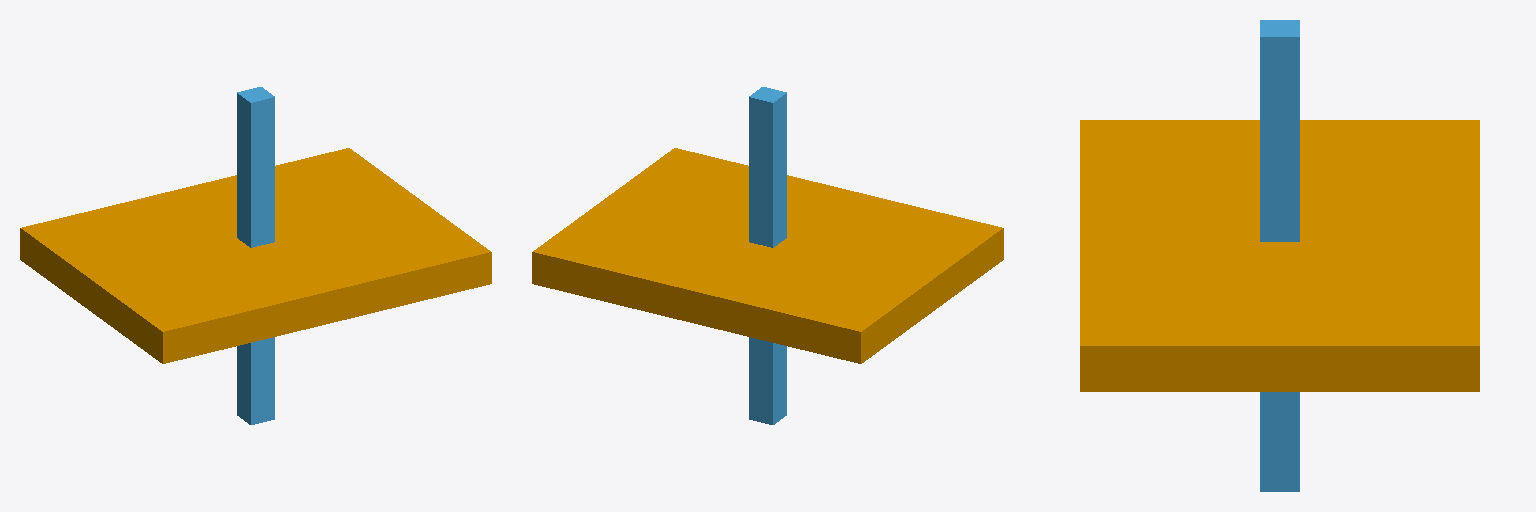
robot.urdf — plane:
<?xml version="1.0" ?>
<robot name="plane">

  <link name="link_plane">
    <contact>
        <lateral_friction value="1"/>
    </contact>
    
    <inertial>
      <origin rpy="0 0 0" xyz="0 0 0"/>
      <mass value=".0"/>
      <inertia ixx="0" ixy="0" ixz="0" iyy="0" iyz="0" izz="0"/>
    </inertial>
      
    <visual>
      <geometry>
        <mesh filename="meshes/table_plane.obj" />
      </geometry>
      <!-- <material name="table_gray"/> -->
    </visual>
    
    <collision>
      <geometry>
        <mesh filename="meshes/table_plane.obj" />
      </geometry>
    </collision>
      
  </link>

  <link name="link_leg1">
    <contact>
        <lateral_friction value="1"/>
    </contact>
    
    <inertial>
      <origin rpy="0 0 0" xyz="0.37 0.27 -0.4125"/>
      <mass value=".0"/>
      <inertia ixx="0" ixy="0" ixz="0" iyy="0" iyz="0" izz="0"/>
    </inertial>
      
    <visual>
      <geometry>
        <mesh filename="meshes/table_leg.obj" />
      </geometry>
      <!-- <material name="leg_gray"/> -->
    </visual>
    
    <collision>
      <geometry>
        <mesh filename="meshes/table_leg.obj" />
      </geometry>
    </collision>
      
  </link>

  <link name="link_leg2">
    <contact>
        <lateral_friction value="1"/>
    </contact>
    
    <inertial>
      <origin rpy="0 0 0" xyz="-0.37 0.27 -0.4125"/>
      <mass value=".0"/>
      <inertia ixx="0" ixy="0" ixz="0" iyy="0" iyz="0" izz="0"/>
    </inertial>
      
    <visual>
      <geometry>
        <mesh filename="meshes/table_leg.obj" />
      </geometry>
      <!-- <material name="leg_gray"/> -->
    </visual>
    
    <collision>
      <geometry>
        <mesh filename="meshes/table_leg.obj" />
      </geometry>
    </collision>
      
  </link>

  <link name="link_leg3">
    <contact>
        <lateral_friction value="1"/>
    </contact>
    
    <inertial>
      <origin rpy="0 0 0" xyz="0.37 -0.27 -0.4125"/>
      <mass value=".0"/>
      <inertia ixx="0" ixy="0" ixz="0" iyy="0" iyz="0" izz="0"/>
    </inertial>
      
    <visual>
      <geometry>
        <mesh filename="meshes/table_leg.obj" />
      </geometry>
      <!-- <material name="leg_gray"/> -->
    </visual>
    
    <collision>
      <geometry>
        <mesh filename="meshes/table_leg.obj" />
      </geometry>
    </collision>
      
  </link>

  <link name="link_leg4">
    <contact>
        <lateral_friction value="1"/>
    </contact>
    
    <inertial>
      <origin rpy="0 0 0" xyz="-0.37 -0.27 -0.4125"/>
      <mass value=".0"/>
      <inertia ixx="0" ixy="0" ixz="0" iyy="0" iyz="0" izz="0"/>
    </inertial>
      
    <visual>
      <geometry>
        <mesh filename="meshes/table_leg.obj" />
      </geometry>
      <!-- <material name="leg_gray"/> -->
    </visual>
    
    <collision>
      <geometry>
        <mesh filename="meshes/table_leg.obj" />
      </geometry>
    </collision>
      
  </link>

  <joint name="fixed_joint1" type="fixed">
    <parent link="link_plane"/>
    <child link="link_leg1"/>
    <origin rpy="0 0 0.0" xyz="0 0 0.0"/>
  </joint>

  <joint name="fixed_joint2" type="fixed">
    <parent link="link_plane"/>
    <child link="link_leg2"/>
    <origin rpy="0 0 0.0" xyz="0 0 0.0"/>
  </joint>

  <joint name="fixed_joint3" type="fixed">
    <parent link="link_plane"/>
    <child link="link_leg3"/>
    <origin rpy="0 0 0.0" xyz="0 0 0.0"/>
  </joint>

  <joint name="fixed_joint4" type="fixed">
    <parent link="link_plane"/>
    <child link="link_leg4"/>
    <origin rpy="0 0 0.0" xyz="0 0 0.0"/>
  </joint>

  <material name="table_gray">
    <color rgba=".6 .6 .6 1."/>
  </material>

  <material name="leg_gray">
    <color rgba=".8 .8 .8 1."/>
  </material>

</robot>

--- What the picture shows (computed from the rendered views, not written in the file) ---
3 views of the same robot in one strip: view 1: azimuth 30°, elevation 25°; view 2: azimuth 150°, elevation 25°; view 3: azimuth 270°, elevation 25° (orthographic).
Model plane with 5 links and 4 joints (4 fixed), rooted at link_plane, posed all joints at 0.
Visible links, largest first — view 1: link_plane, link_leg1; view 2: link_plane, link_leg1; view 3: link_plane, link_leg1.
Link boxes in pixels (<box>): link_plane: <box>20,148,491,363</box>; link_leg1: <box>237,87,274,424</box>; link_plane: <box>532,148,1003,363</box>; link_leg1: <box>749,87,786,424</box>; link_plane: <box>1080,120,1479,391</box>; link_leg1: <box>1260,20,1299,491</box>.
Size in the robot's own frame: 0.8 by 0.6 by 0.75 metres.
5 mesh visuals loaded from 2 distinct referenced files (2 OBJ).